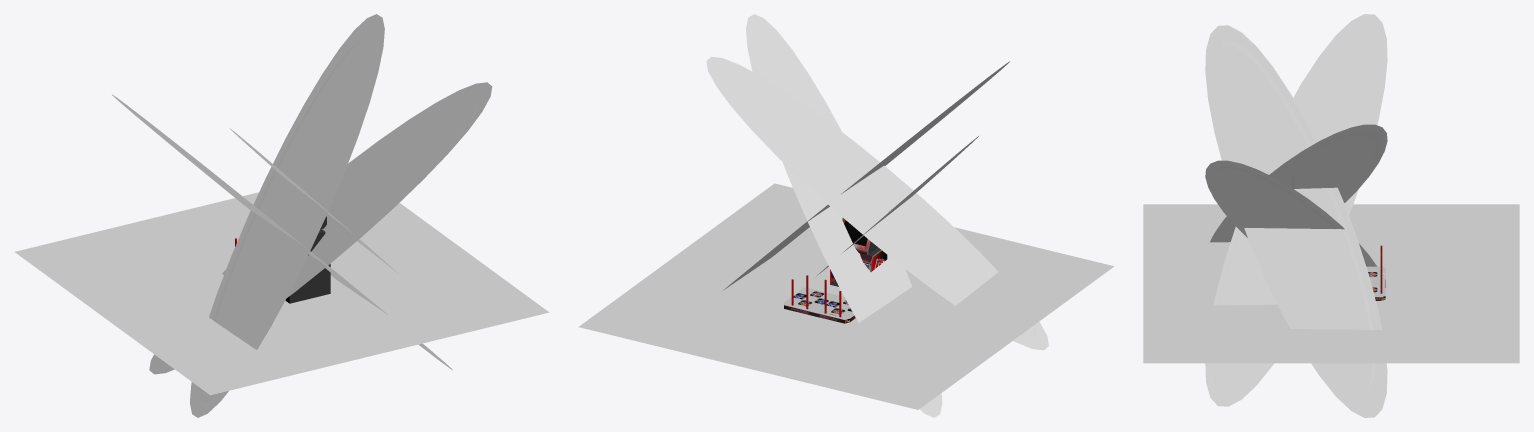
The model's file is itgmachine.fbx.
3 renders of one model, left to right at view 1: azimuth 30°, elevation 25°; view 2: azimuth 150°, elevation 25°; view 3: azimuth 270°, elevation 25°, orthographic. The views are drawn at different scales.
Parts seen in each view (by area): view 1: Plane.002, Cylinder.010, Cylinder.014, Cylinder.009, Cylinder.013, Cylinder.011, Body, Cylinder.012; view 2: Plane.002, Cylinder.010, Cylinder.014, Cylinder.009, Cylinder.013, Cylinder.007, Cylinder.008, Cube.003; view 3: Plane.002, Cylinder.007, Cylinder.011, Cylinder.008, Cylinder.014, Cylinder.012, Cylinder.010, Cylinder.009, Cylinder.013.
Part boxes in pixels (<box>): Plane.002: <box>15,192,549,395</box>; Cylinder.010: <box>198,36,377,402</box>; Cylinder.014: <box>291,92,480,289</box>; Cylinder.009: <box>190,14,384,417</box>; Cylinder.013: <box>149,82,492,374</box>; Cylinder.011: <box>131,110,439,359</box>; Body: <box>289,264,330,303</box>; Cylinder.012: <box>112,94,452,370</box>; Plane.002: <box>579,183,1113,409</box>; Cylinder.010: <box>726,70,1035,337</box>; Cylinder.014: <box>752,28,908,320</box>; Cylinder.009: <box>706,56,1048,350</box>; Cylinder.013: <box>746,14,942,417</box>; Cylinder.007: <box>727,71,997,287</box>; Cylinder.008: <box>723,61,1009,290</box>; Cube.003: <box>784,287,854,319</box>; Plane.002: <box>1143,204,1519,363</box>; Cylinder.007: <box>1209,41,1374,397</box>; Cylinder.011: <box>1212,39,1376,393</box>; Cylinder.008: <box>1205,25,1387,417</box>; Cylinder.014: <box>1209,166,1368,266</box>; Cylinder.012: <box>1205,14,1387,406</box>; Cylinder.010: <box>1215,134,1376,242</box>; Cylinder.009: <box>1210,124,1387,242</box>; Cylinder.013: <box>1205,160,1376,266</box>.
Bounding box in the file's own units: 32.56 × 27.6 × 32.56.
